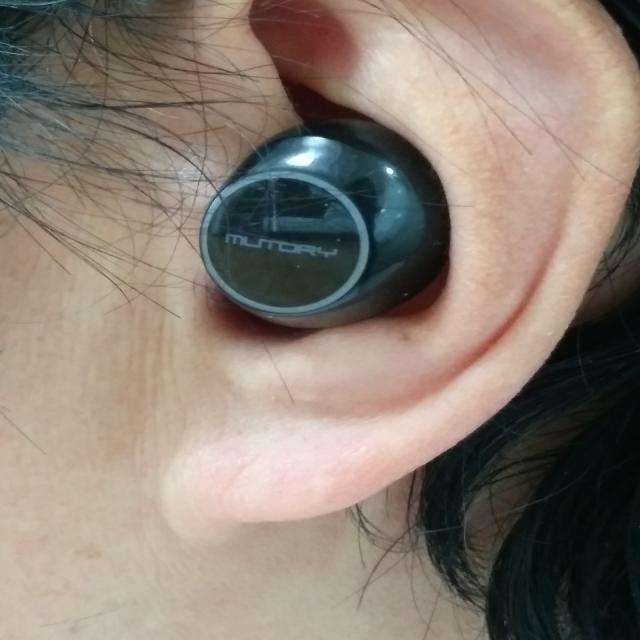earphone: (188, 105, 512, 341)
